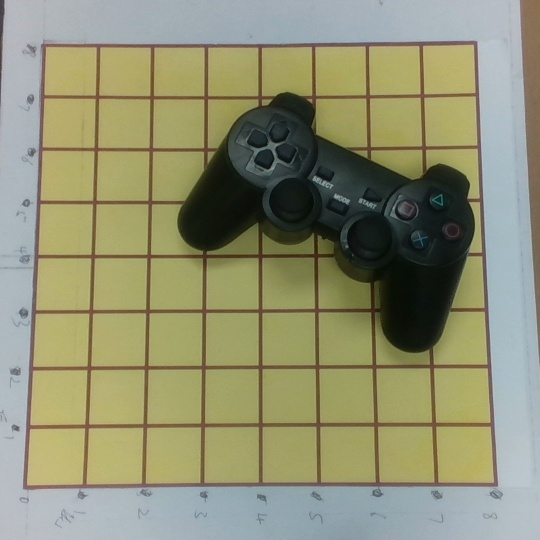remote: (177, 91, 475, 353)
